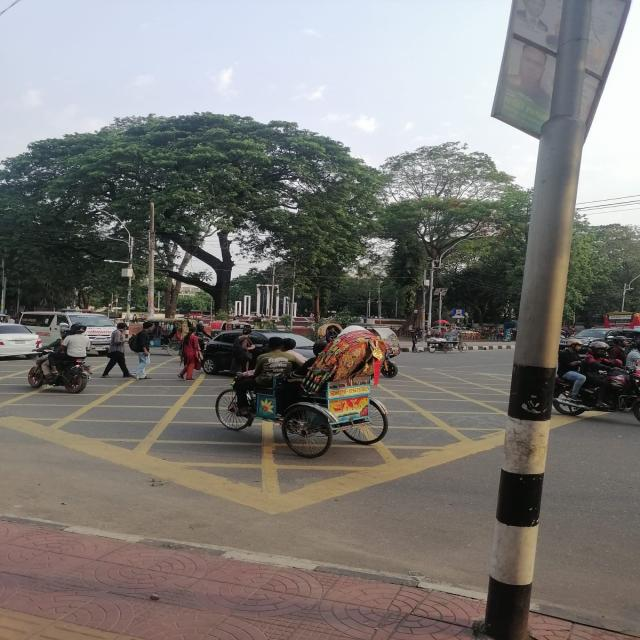person: (102, 323, 132, 378), (130, 322, 154, 380), (178, 327, 202, 380), (230, 327, 254, 375)
